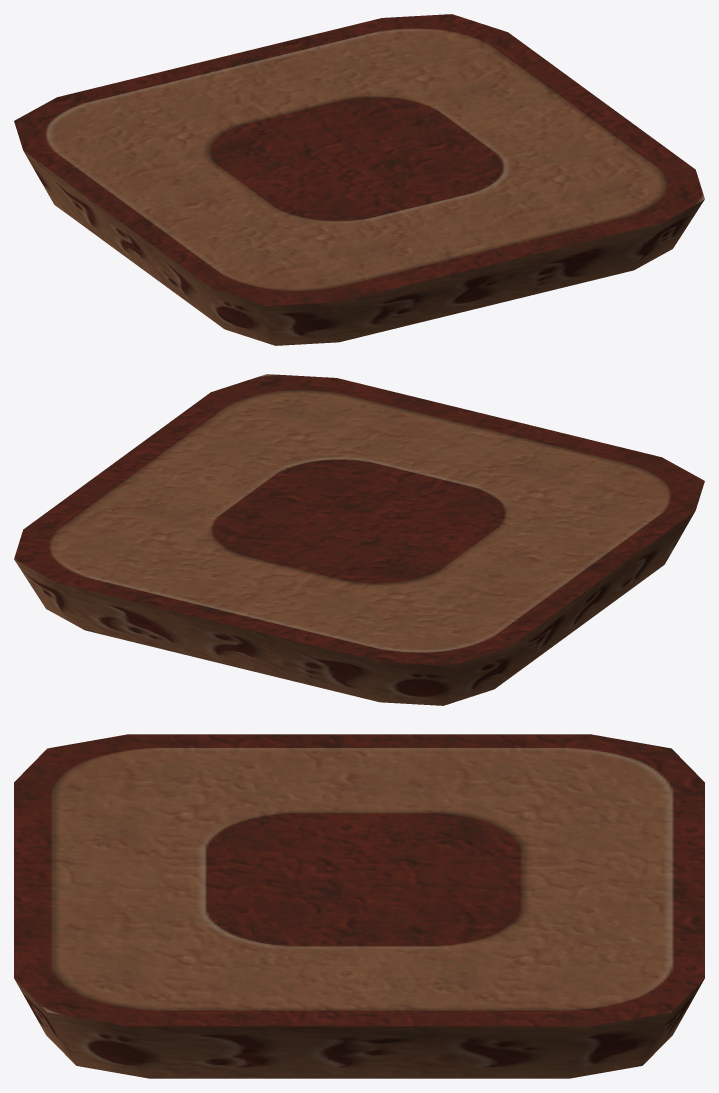
Rendered from pds-plat-square.glb.
The picture shows the model from 3 angles, top to bottom: view 1: azimuth 30°, elevation 25°; view 2: azimuth 150°, elevation 25°; view 3: azimuth 270°, elevation 25°; orthographic projection. The views are drawn at different scales.
Visible parts, largest first — view 1: pds-plat-square; view 2: pds-plat-square; view 3: pds-plat-square.
Boxes of the visible parts, <box> form: pds-plat-square: <box>14,14,704,345</box>; pds-plat-square: <box>14,374,704,705</box>; pds-plat-square: <box>14,734,704,1078</box>.
Size of the model in its own units: 6.8 by 1.1 by 6.8.
Materials: 3 (3 with a texture image).
